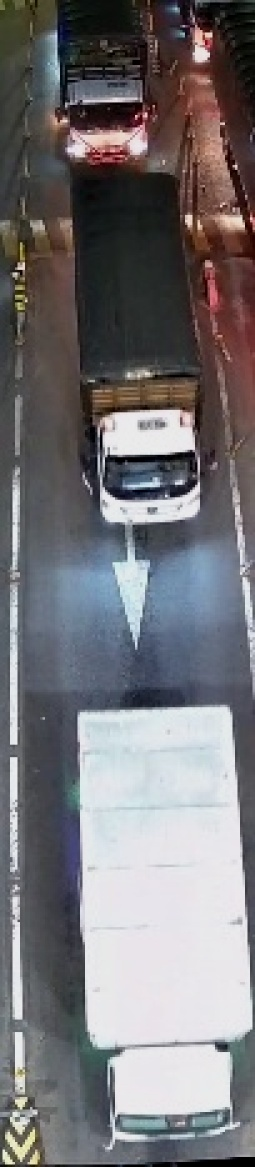truck: (63, 705, 254, 1152), (66, 161, 202, 525), (55, 3, 167, 164)
